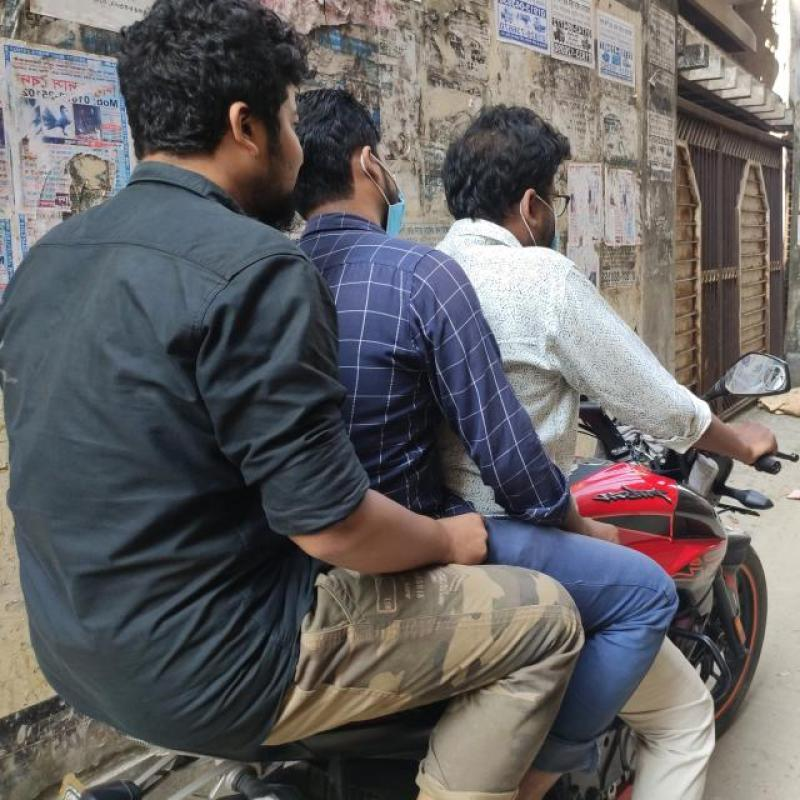nohelmet: (118, 3, 322, 196), (444, 75, 597, 251)
